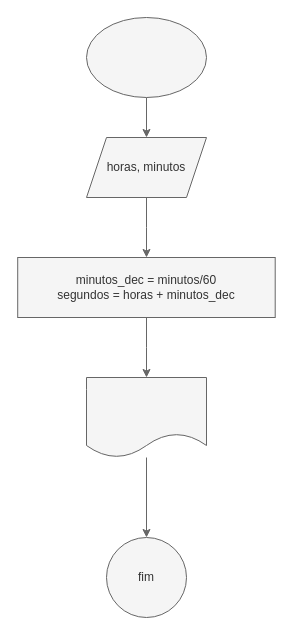
The diagram is 301 pixels wide and 635 high, and some of its shapes have lost their labels. The shapes that lost their labels are listed below. From the top down, each one's centre as x and y in pixels, then its label:
At point (146, 57): "inicio".
At point (146, 417): "segundos".
